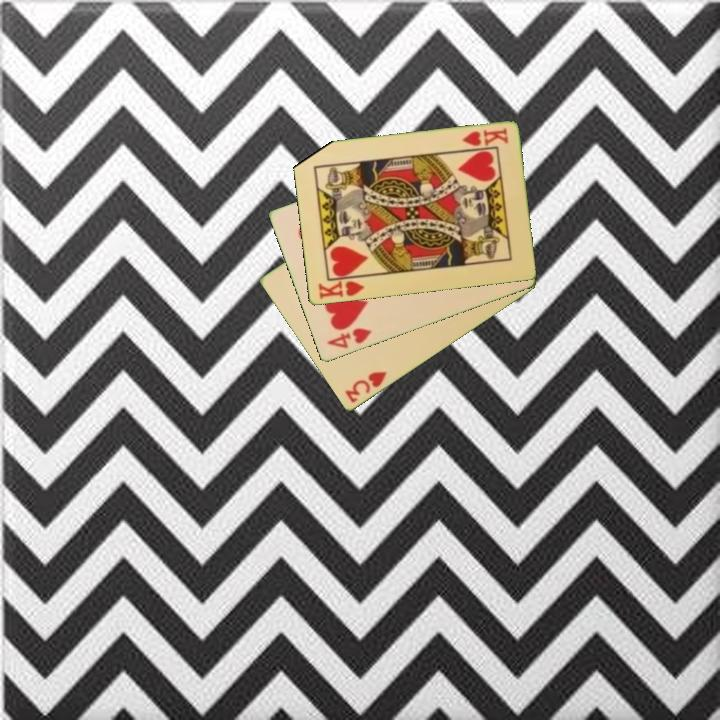3h: (341, 368, 390, 406)
4h: (323, 325, 374, 352)
Kh: (314, 273, 369, 302), (458, 125, 511, 149)
